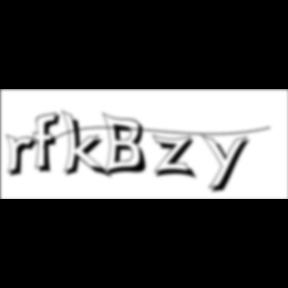B: (102, 111, 152, 179)
f: (34, 111, 66, 175)
k: (62, 108, 115, 181)
r: (6, 134, 44, 180)
y: (201, 132, 255, 196)
z: (153, 134, 202, 182)
